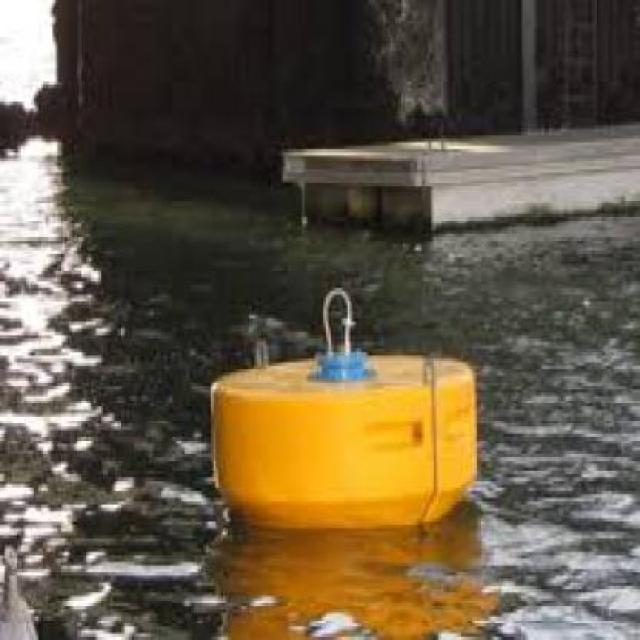buoy: (200, 275, 491, 550)
